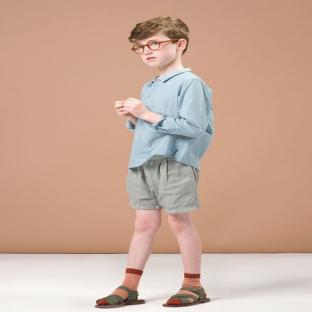Human: (96, 17, 214, 307)
